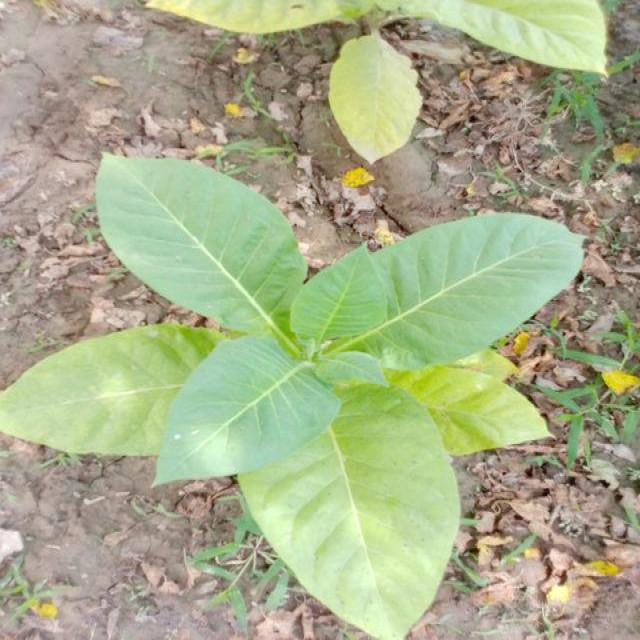crop: (0, 140, 611, 640)
